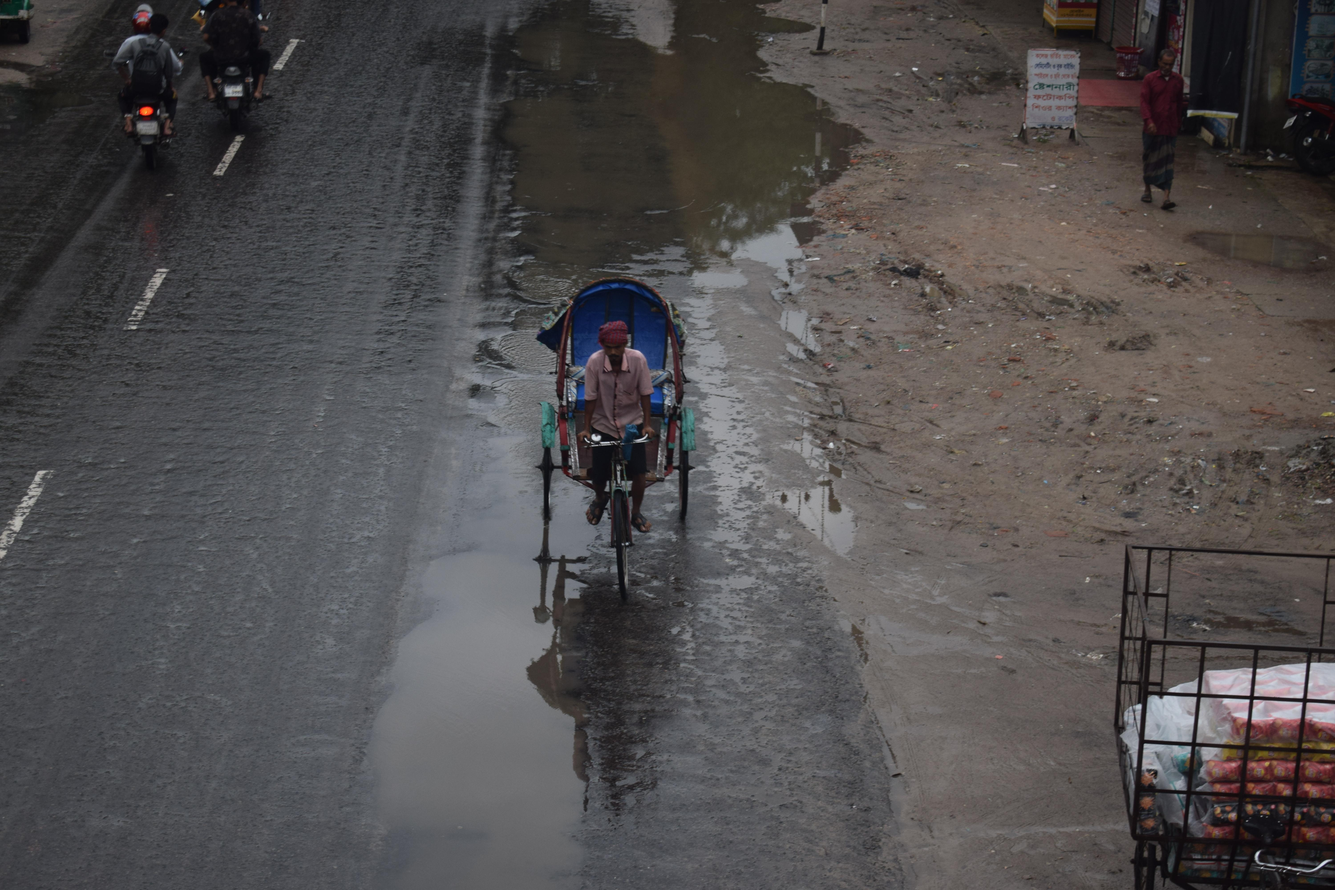Bike: (83, 0, 199, 179), (182, 0, 302, 150)
Car: (467, 250, 740, 659)
